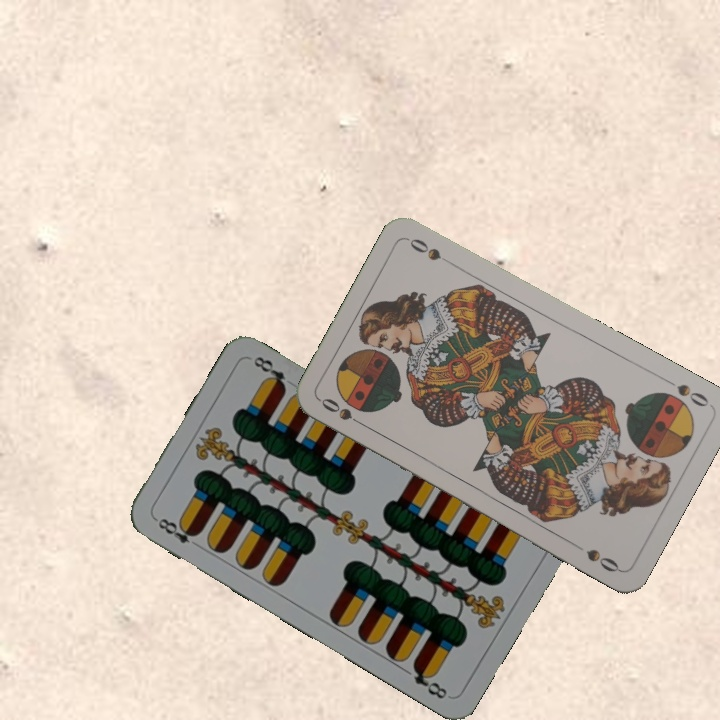E8: (150, 513, 203, 551)
SO: (317, 393, 371, 431), (659, 374, 712, 410)
